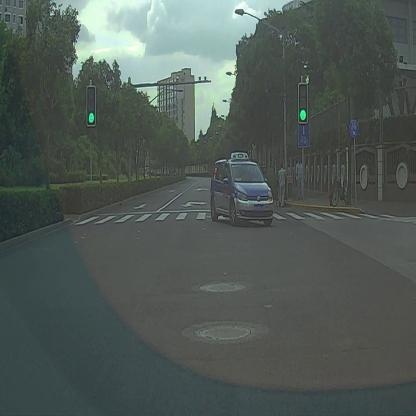Green Light: (298, 81, 309, 124), (86, 84, 96, 127)
